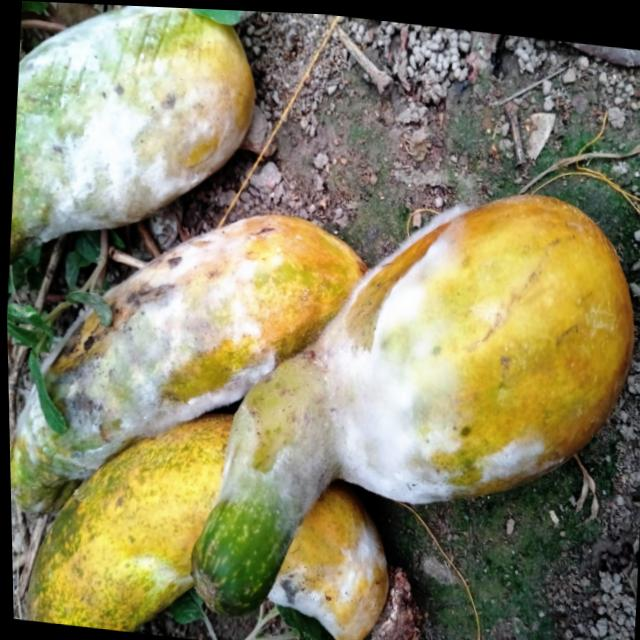Pythium-Fruit-Rot: (205, 172, 574, 547), (3, 192, 289, 505), (5, 0, 228, 262), (259, 510, 386, 640)
